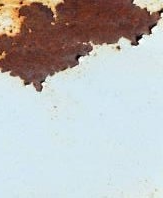Corrosion: (1, 1, 163, 93)
